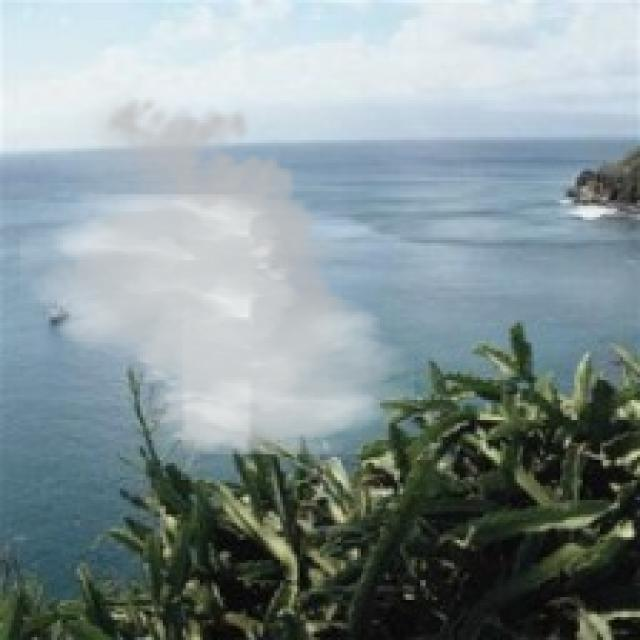smoke: (20, 86, 414, 454)
